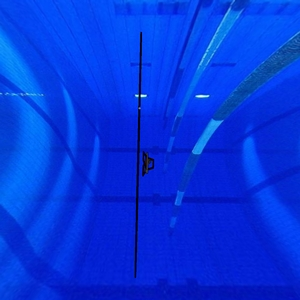circle: (135, 29, 140, 280)
submarine: (141, 150, 156, 180)
